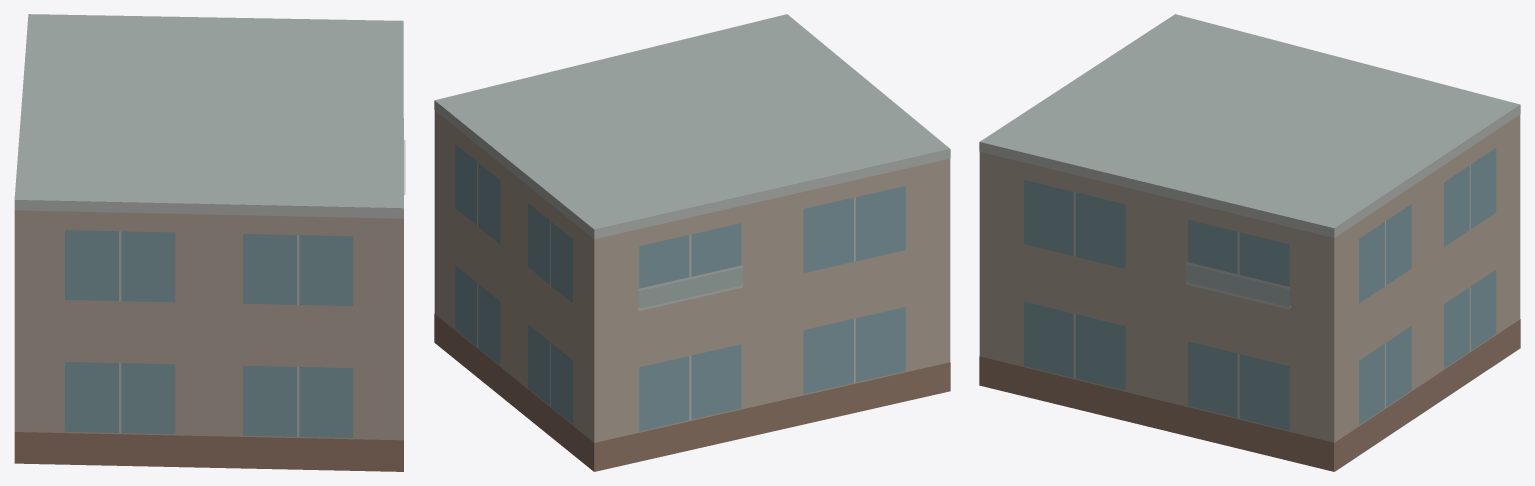
File: survey-upis-32887814.glb
3 views of the same model, side by side, from view 1: azimuth 30°, elevation 25°; view 2: azimuth 150°, elevation 25°; view 3: azimuth 270°, elevation 25° (orthographic). The views are drawn at different scales.
Visible parts, largest first — view 1: survey-upis-32887814.tmp; view 2: survey-upis-32887814.tmp; view 3: survey-upis-32887814.tmp.
Part boxes in pixels (left/top/right/bottom): survey-upis-32887814.tmp: left=14, top=14, right=405, bottom=471; survey-upis-32887814.tmp: left=434, top=14, right=950, bottom=471; survey-upis-32887814.tmp: left=979, top=14, right=1520, bottom=471.
Bounding box in the file's own units: 11.52 × 6.1 × 12.29.
